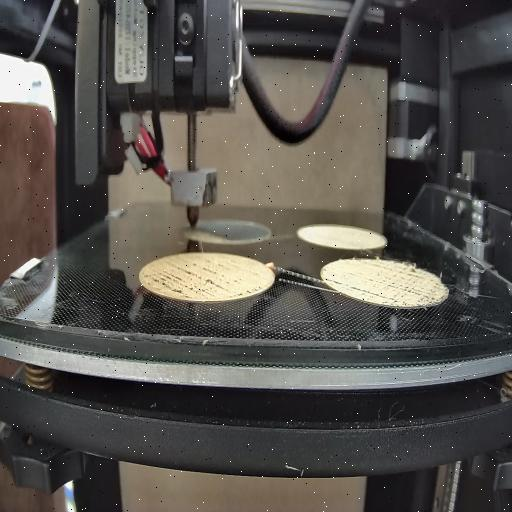under_extrusion: (348, 266, 444, 308), (142, 268, 262, 299), (322, 270, 342, 288)
